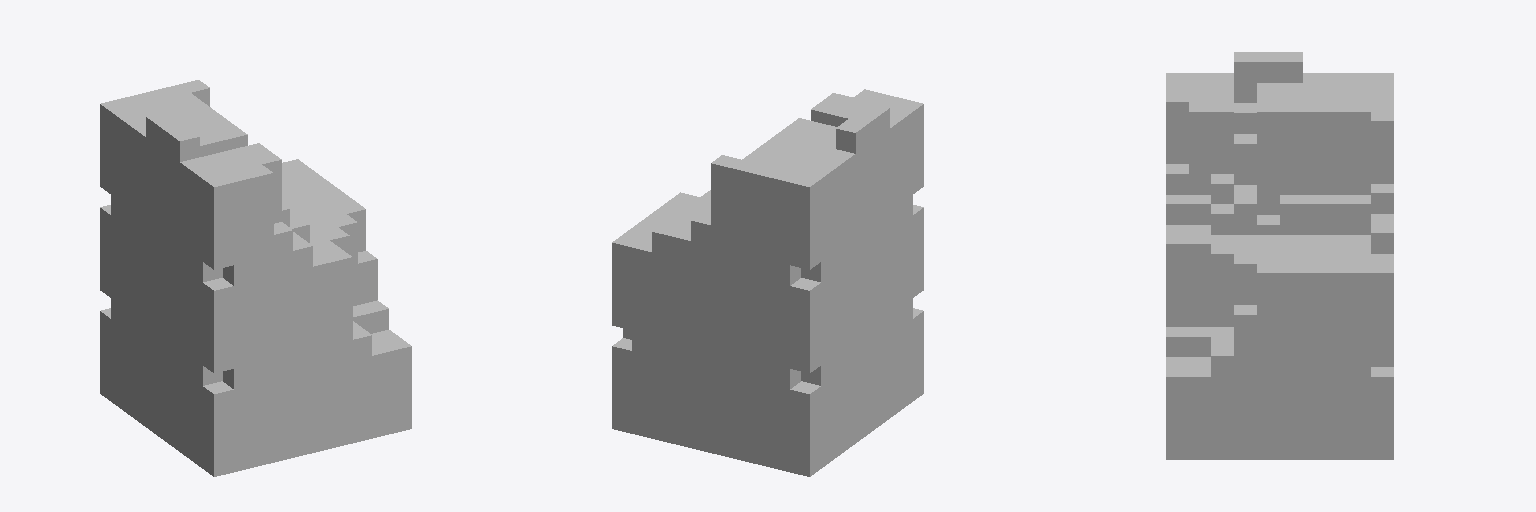
File: Pillar 3.obj
The picture shows the model from 3 angles: view 1: azimuth 30°, elevation 25°; view 2: azimuth 150°, elevation 25°; view 3: azimuth 270°, elevation 25°; orthographic projection.
Bounding box in the file's own units: 10 × 15 × 10.